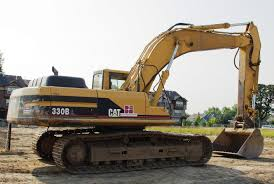excavator: (5, 16, 266, 174)
